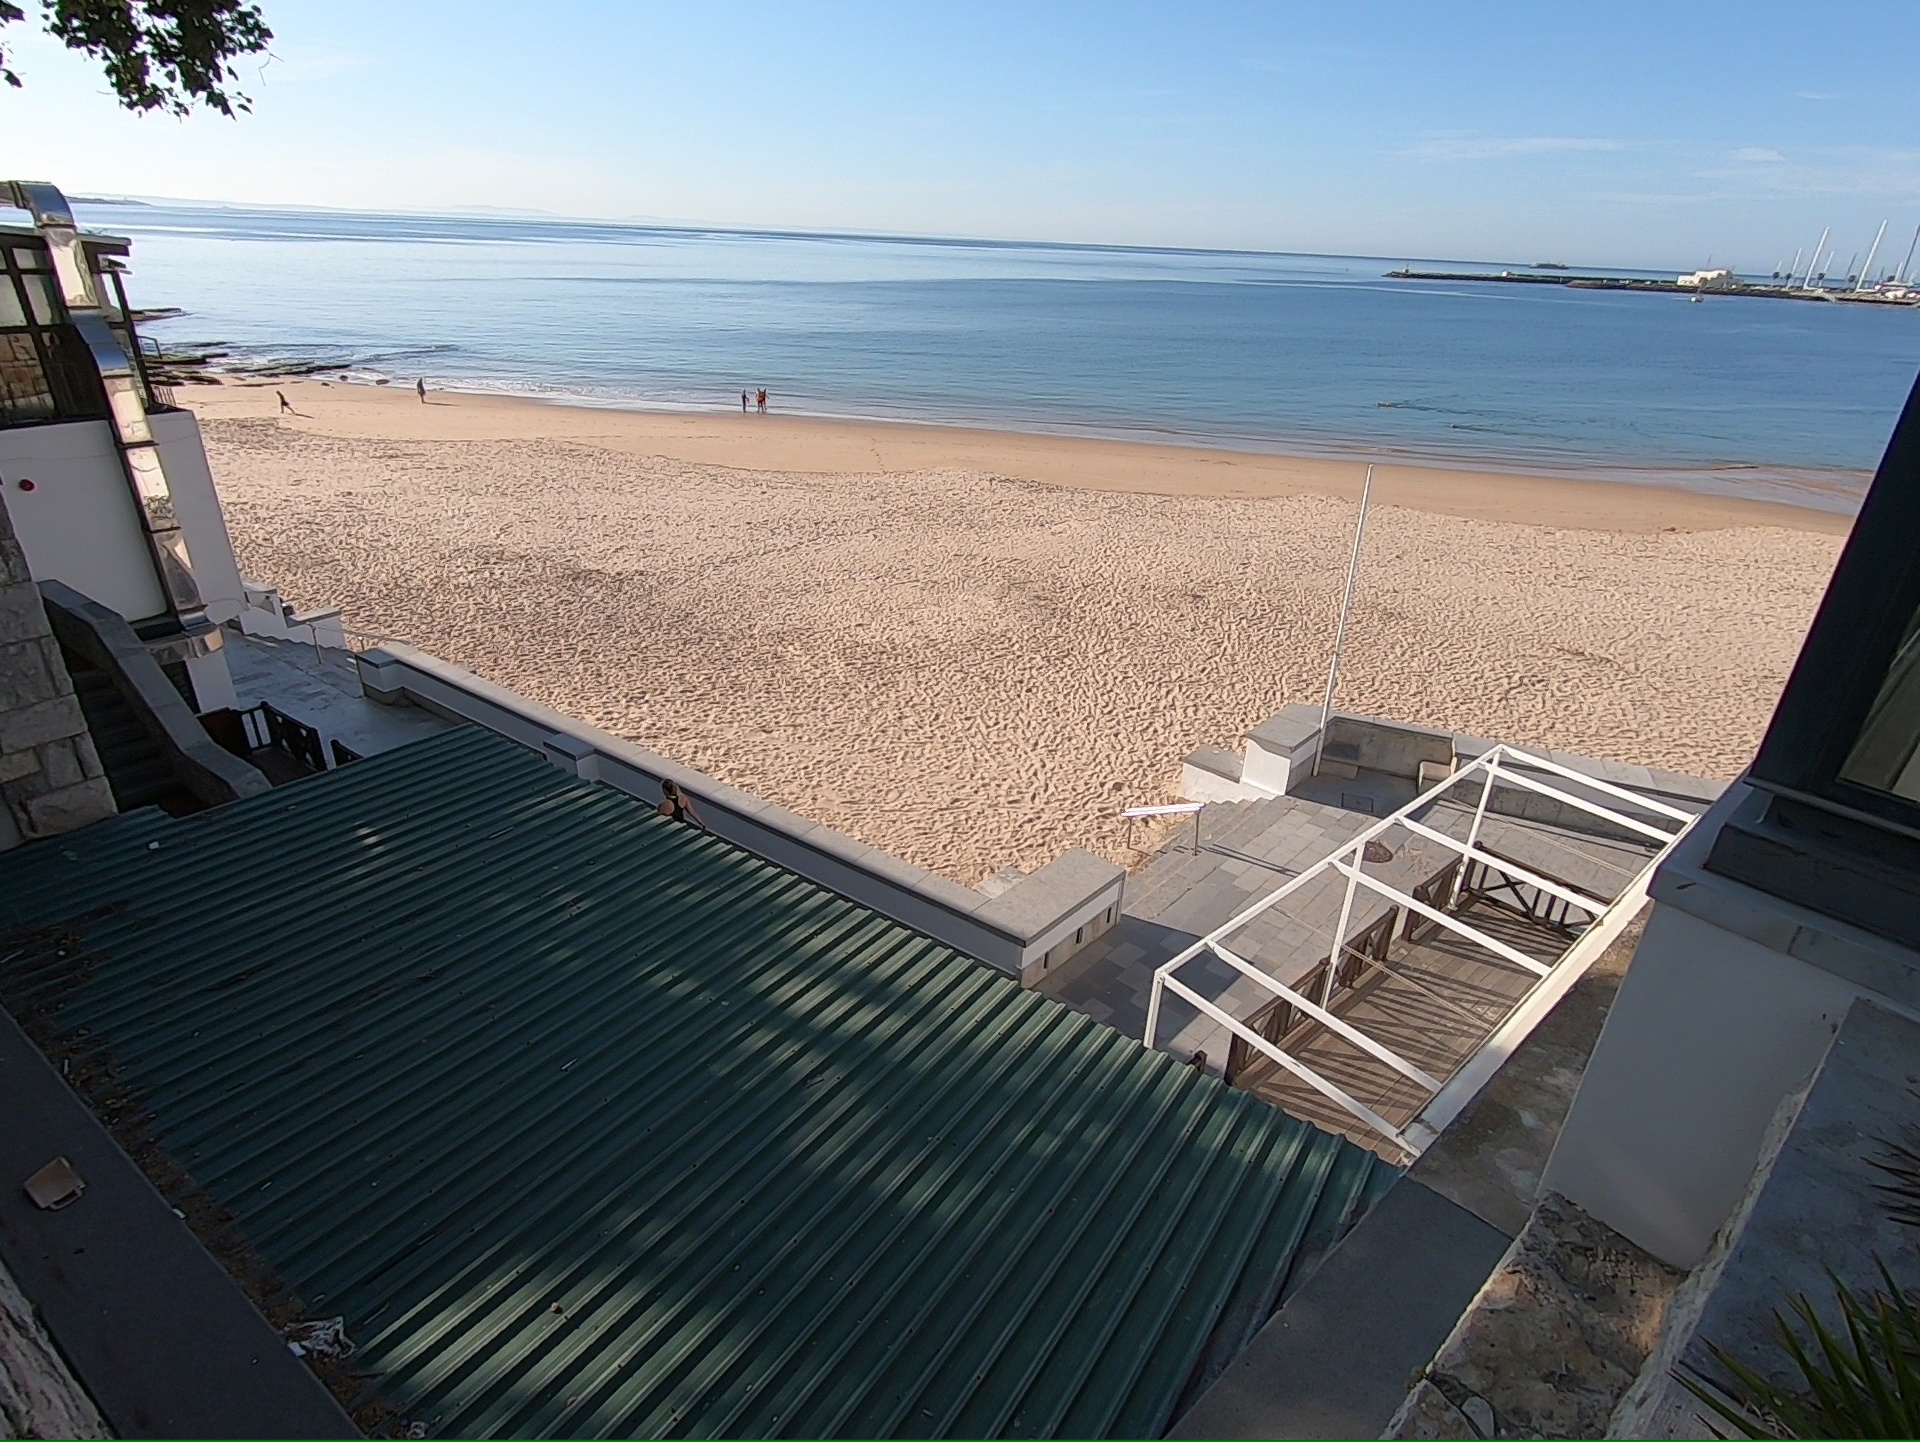person: (657, 778, 692, 812), (274, 390, 294, 414), (415, 375, 426, 407), (753, 387, 765, 413), (741, 388, 749, 414)
